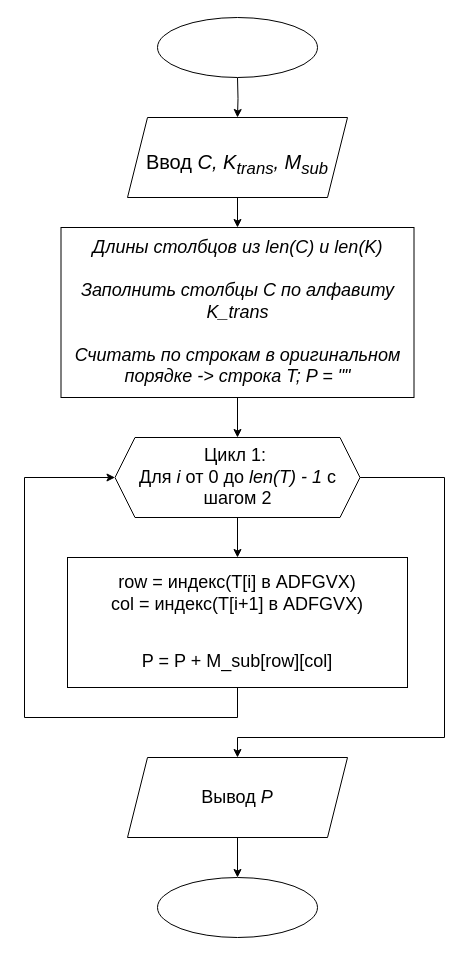
Some shapes in this 470 by 955 pixel diagram are drawn without their labels. The centre of each missing label's shape, as x and y in pixels:
Конец: (x=237, y=907)
Начало: (x=237, y=47)
